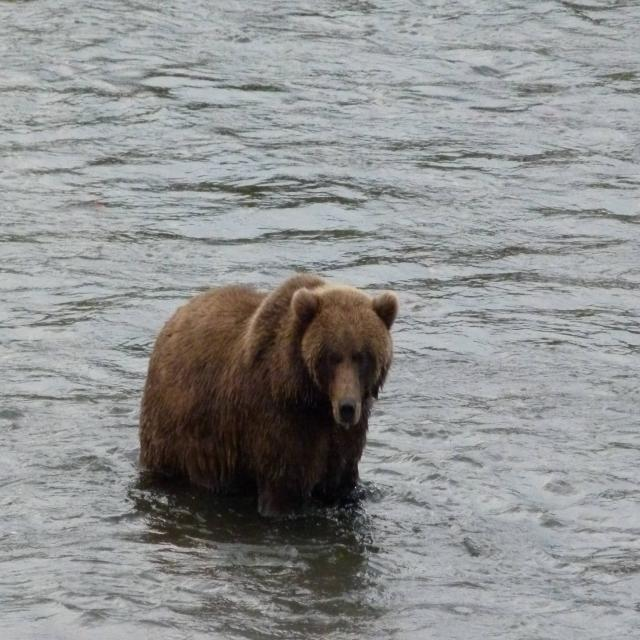bear face: (143, 278, 396, 488)
